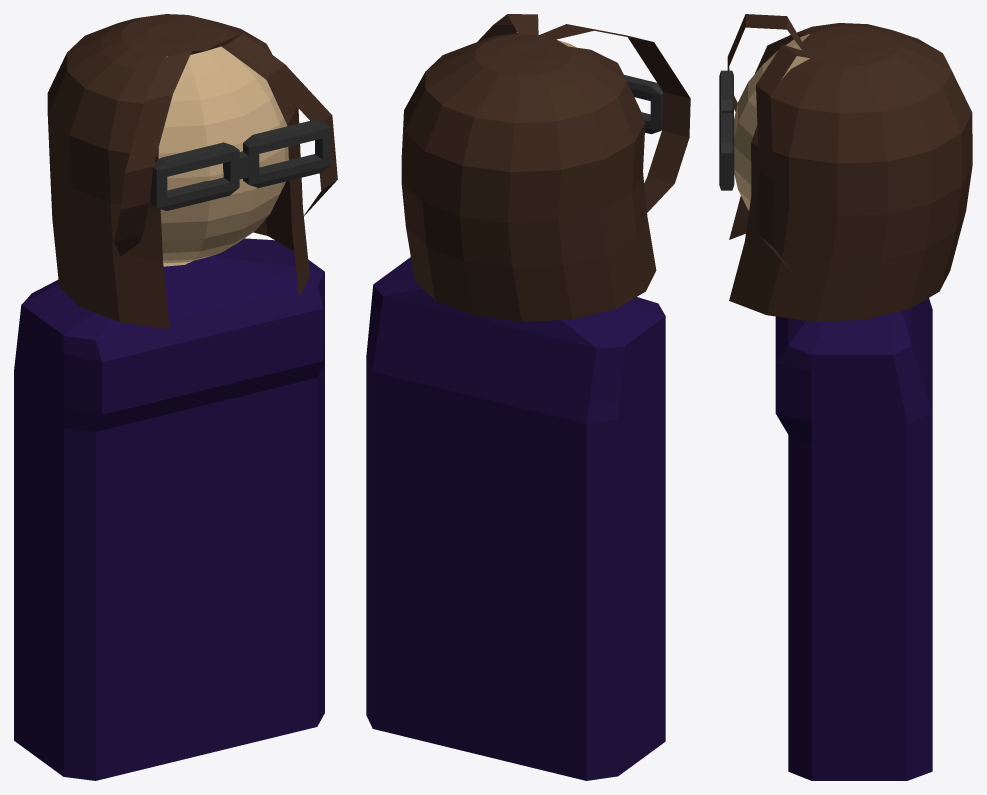
The model's file is Teacher.fbx.
3 renders of one model, left to right at view 1: azimuth 30°, elevation 25°; view 2: azimuth 150°, elevation 25°; view 3: azimuth 270°, elevation 25°, orthographic. The views are drawn at different scales.
Parts seen in each view (by area): view 1: Cube, Sphere, Cube.002; view 2: Cube, Sphere, Cube.002; view 3: Cube, Sphere, Cube.002.
Boxes of the visible parts, bbox=[...] form: Cube: bbox=[14, 238, 324, 780]; Sphere: bbox=[47, 14, 337, 328]; Cube.002: bbox=[150, 119, 331, 210]; Cube: bbox=[366, 257, 665, 780]; Sphere: bbox=[401, 14, 690, 321]; Cube.002: bbox=[624, 75, 662, 134]; Cube: bbox=[775, 298, 932, 780]; Sphere: bbox=[727, 14, 972, 321]; Cube.002: bbox=[719, 70, 734, 190].
Bounding box in the file's own units: 116 × 299 × 101.
